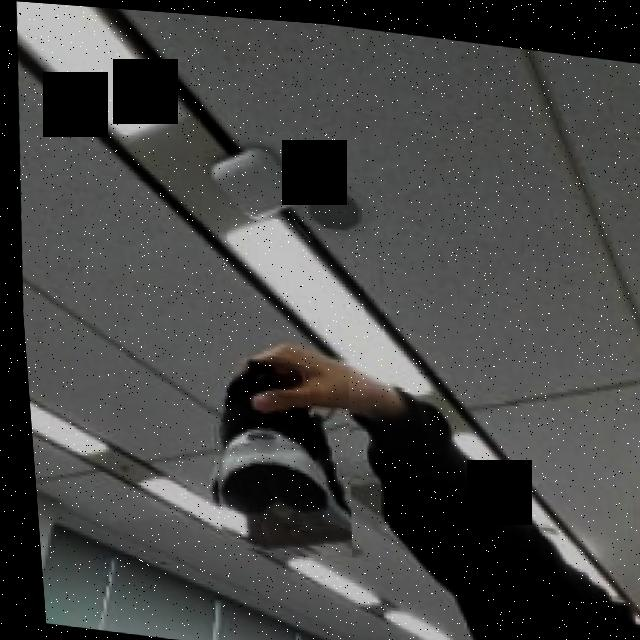shoe: (191, 350, 353, 559)
